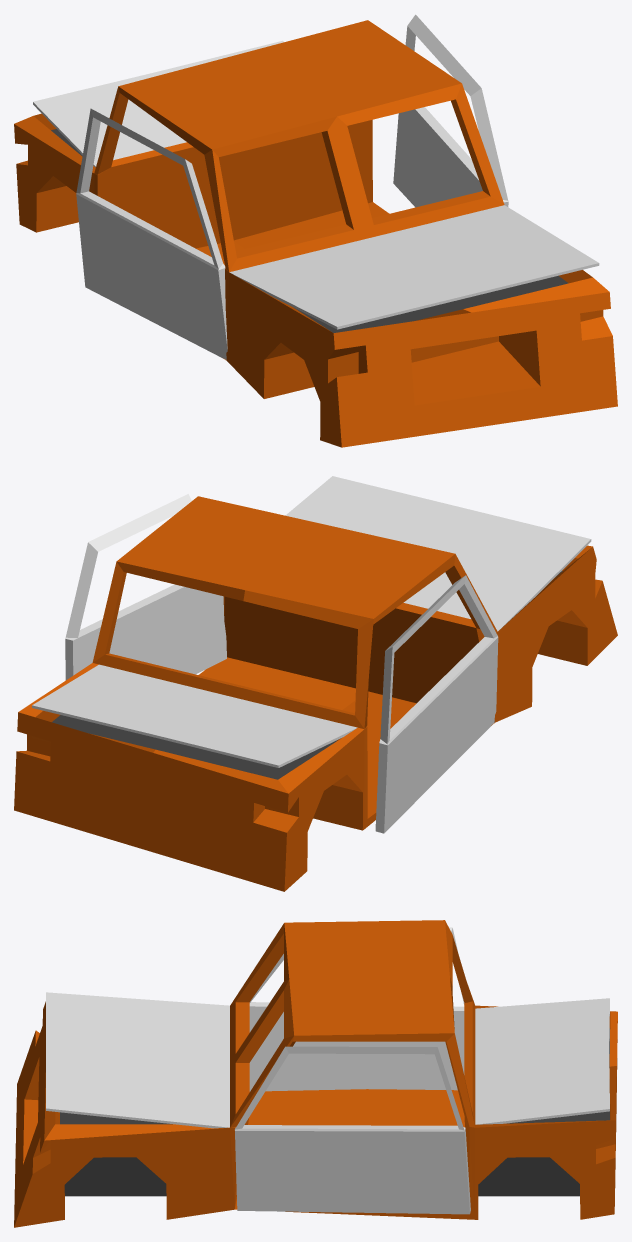
Rendered from Auto junk1.fbx.
The picture shows the model from 3 angles, top to bottom: view 1: azimuth 30°, elevation 25°; view 2: azimuth 150°, elevation 25°; view 3: azimuth 270°, elevation 25°; orthographic projection. The views are drawn at different scales.
Visible parts, largest first — view 1: Cube, Cube.004, Cube.002, Cube.001, Cube.003; view 2: Cube, Cube.004, Cube.003, Cube.002, Cube.001; view 3: Cube, Cube.001, Cube.004, Cube.003, Cube.002.
Boxes of the visible parts, box(x1,y1,x2,y2) form: Cube: box(14, 20, 617, 447); Cube.004: box(229, 205, 599, 329); Cube.002: box(76, 108, 227, 359); Cube.001: box(393, 14, 508, 207); Cube.003: box(33, 40, 283, 167); Cube: box(14, 496, 617, 891); Cube.004: box(285, 476, 591, 631); Cube.003: box(32, 664, 357, 767); Cube.002: box(375, 575, 498, 833); Cube.001: box(65, 494, 226, 680); Cube: box(14, 920, 617, 1227); Cube.001: box(235, 1046, 470, 1214); Cube.004: box(46, 992, 229, 1128); Cube.003: box(475, 998, 609, 1124); Cube.002: box(249, 927, 464, 1091).
Bounding box in the file's own units: 860 × 533 × 1502.
